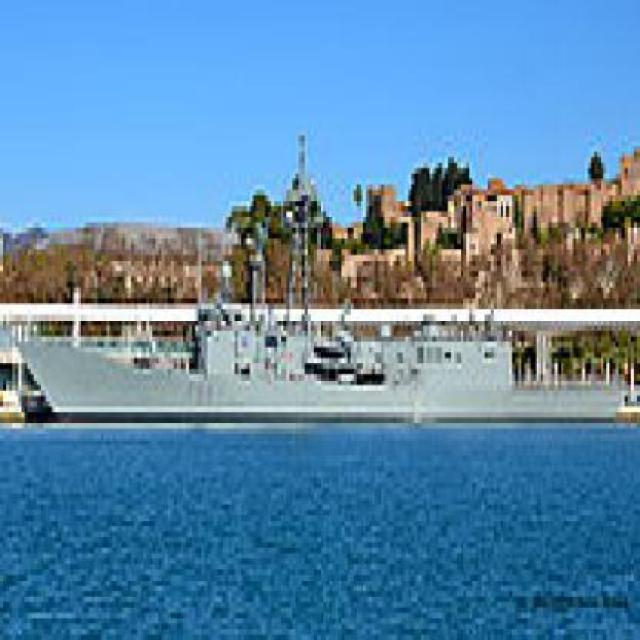warship2: (16, 126, 635, 430)
